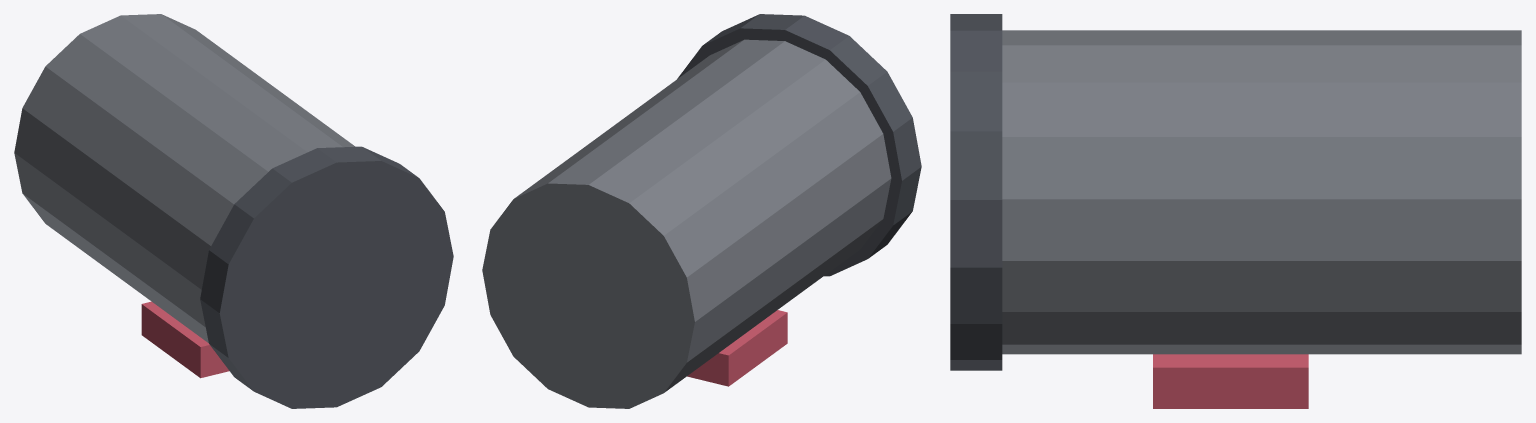
File: recycling_bin_v02.glb
The picture shows the model from 3 angles, left to right: view 1: azimuth 30°, elevation 25°; view 2: azimuth 150°, elevation 25°; view 3: azimuth 270°, elevation 25°; orthographic projection. The views are drawn at different scales.
Parts seen in each view (by area): view 1: cylinder_0, cylinder_1, box_2; view 2: cylinder_0, cylinder_1, box_2; view 3: cylinder_0, cylinder_1, box_2.
Part boxes in pixels (x1,y1,x2,y2): cylinder_0: (14, 14, 354, 343); cylinder_1: (200, 146, 453, 408); box_2: (141, 301, 229, 378); cylinder_0: (482, 39, 891, 408); cylinder_1: (677, 14, 921, 276); box_2: (687, 310, 787, 386); cylinder_0: (1002, 30, 1521, 354); cylinder_1: (950, 14, 1002, 370); box_2: (1153, 354, 1308, 408).
Bounding box in the file's own units: 0.55 × 0.578 × 0.88.
